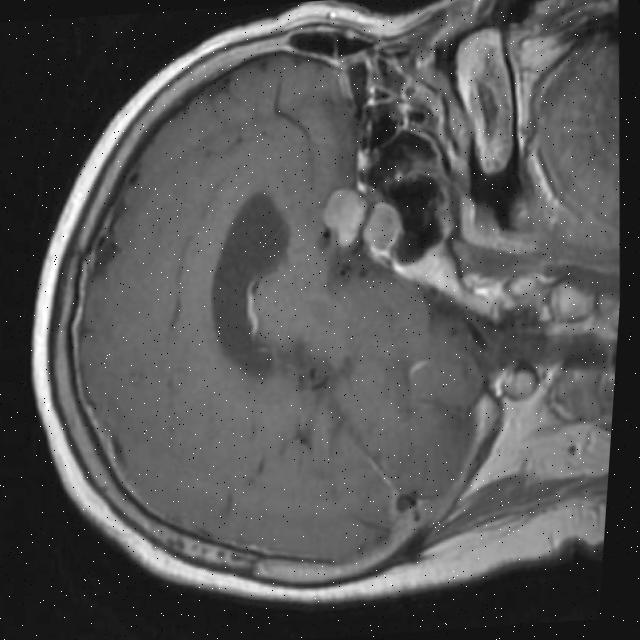Pituitary: (314, 182, 406, 256)
